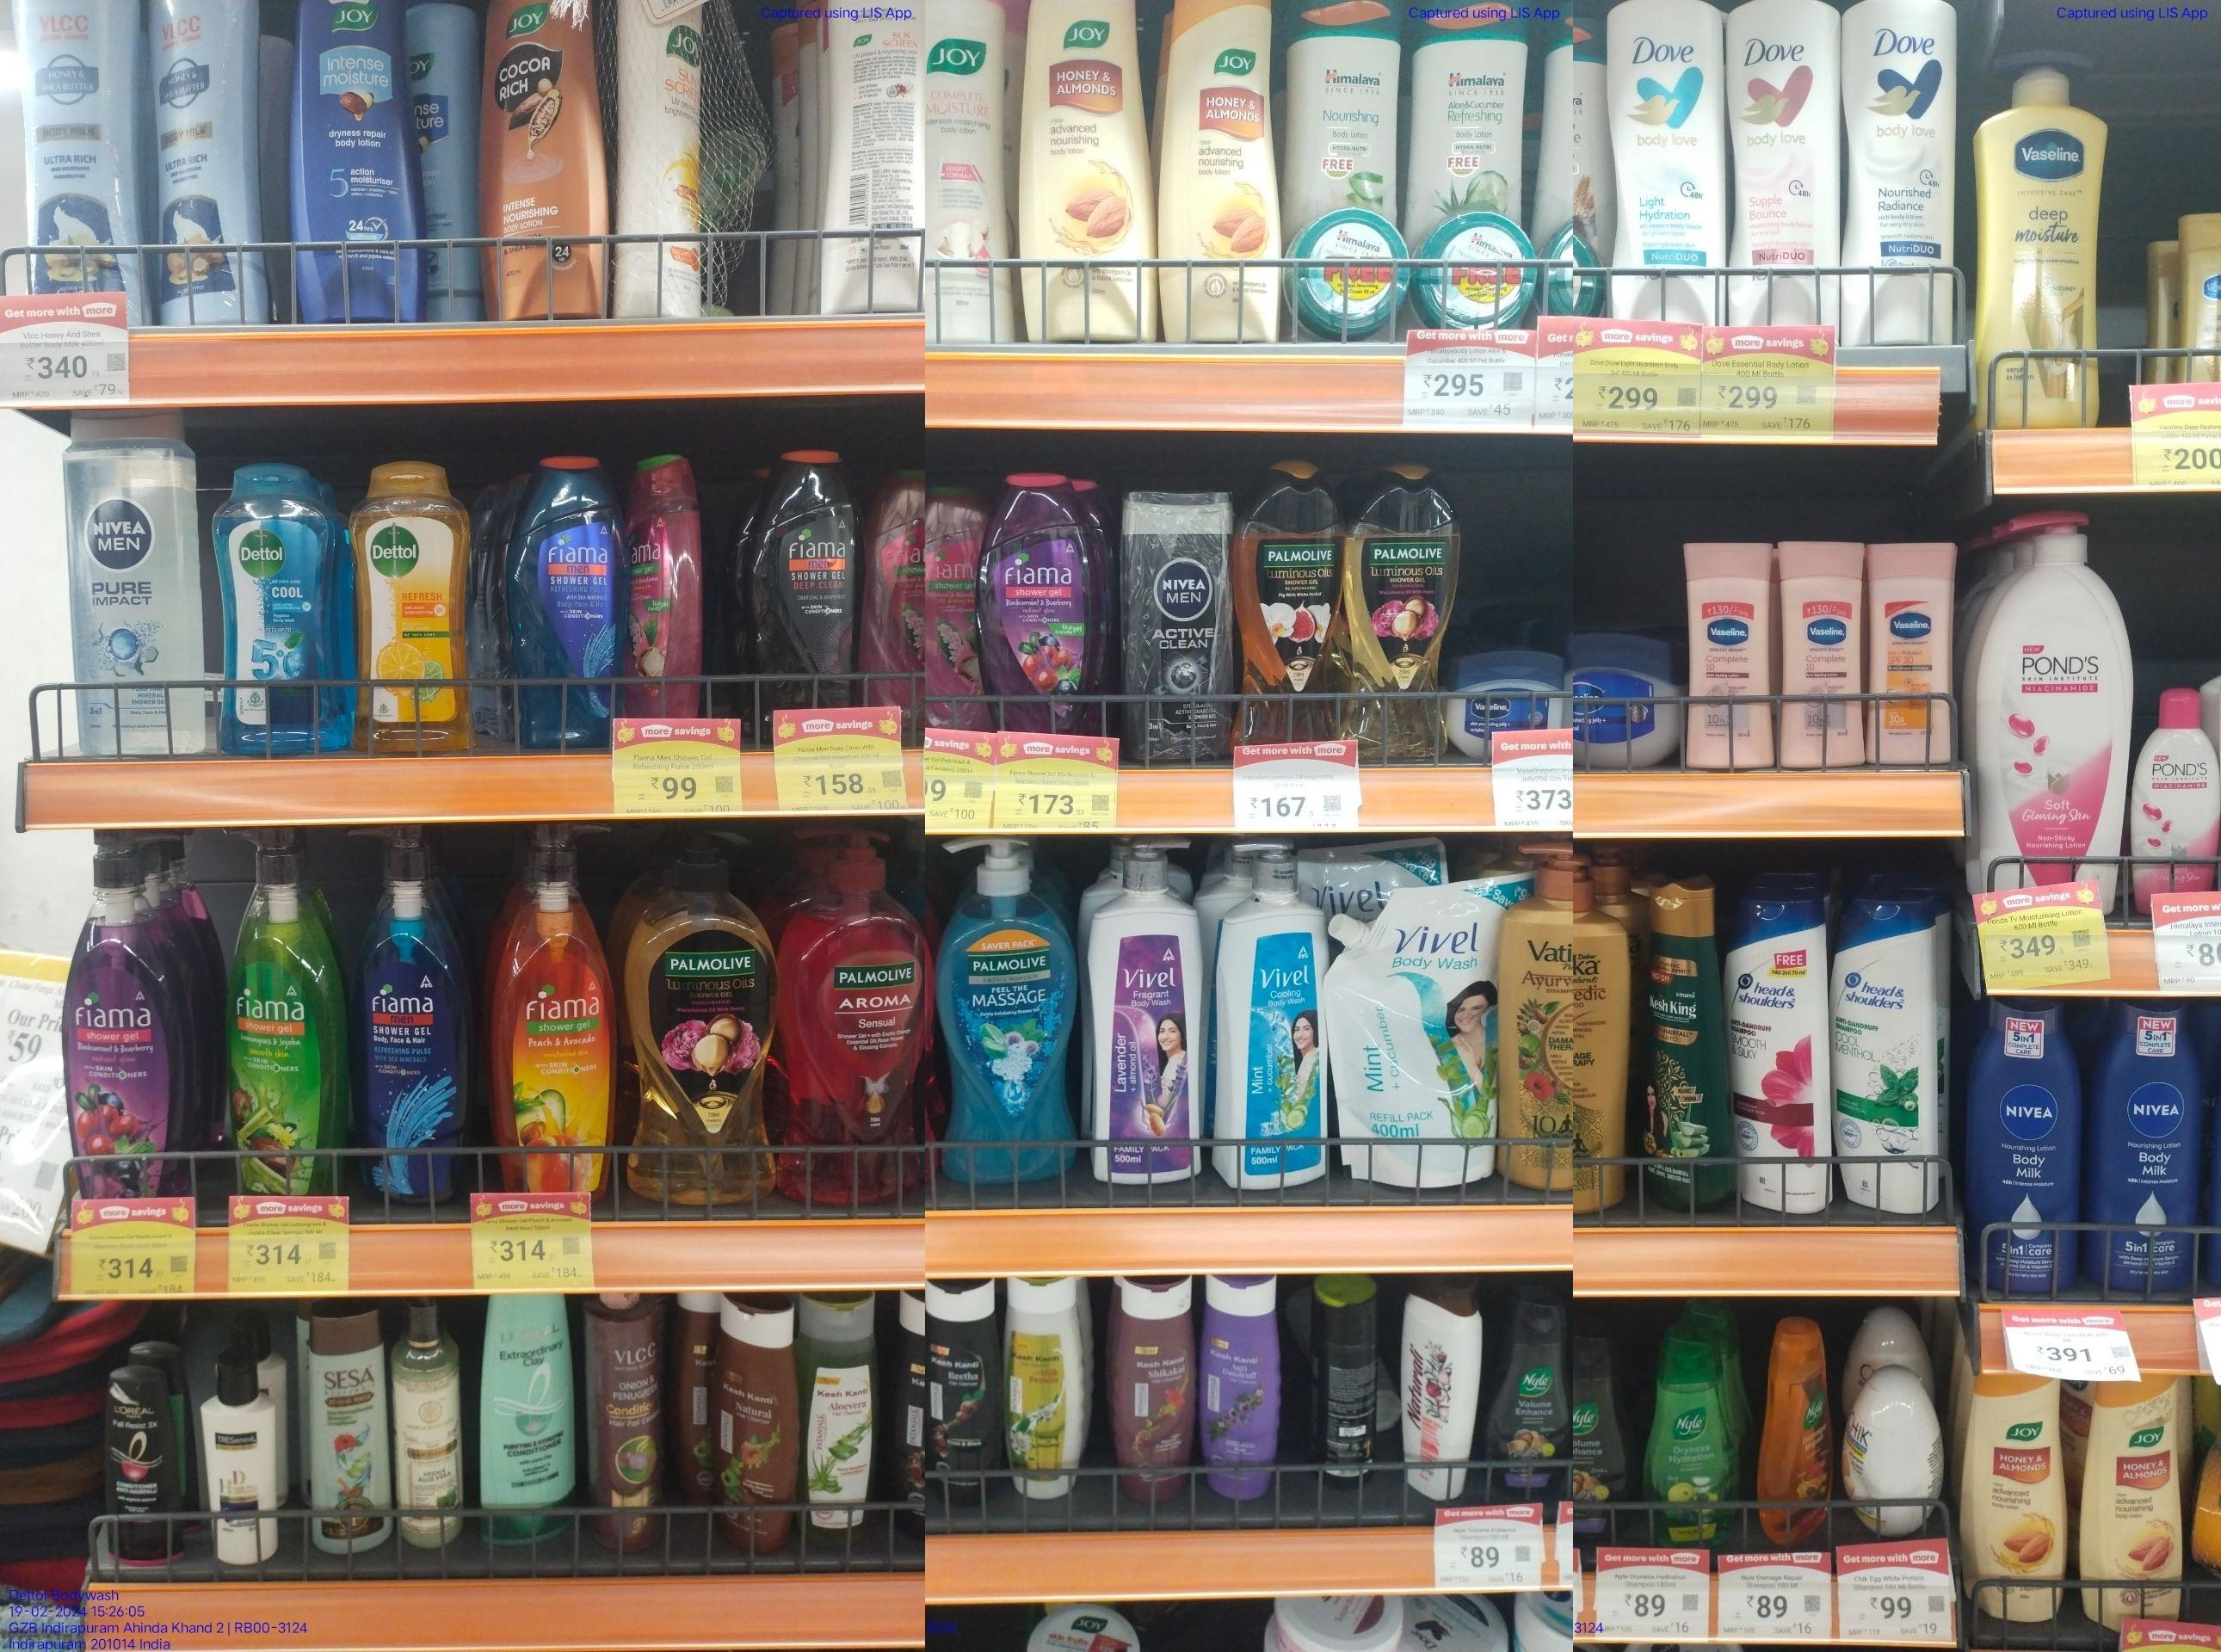Dettol_Bodywash_Cool: (224, 456, 340, 753)
Dettol_Bodywash_Refresh: (349, 460, 468, 753)
Palmolive_Luminous_Oils_With_White_Orchid_Shower_Gel_250ML: (1348, 460, 1461, 753), (1237, 458, 1345, 755)
